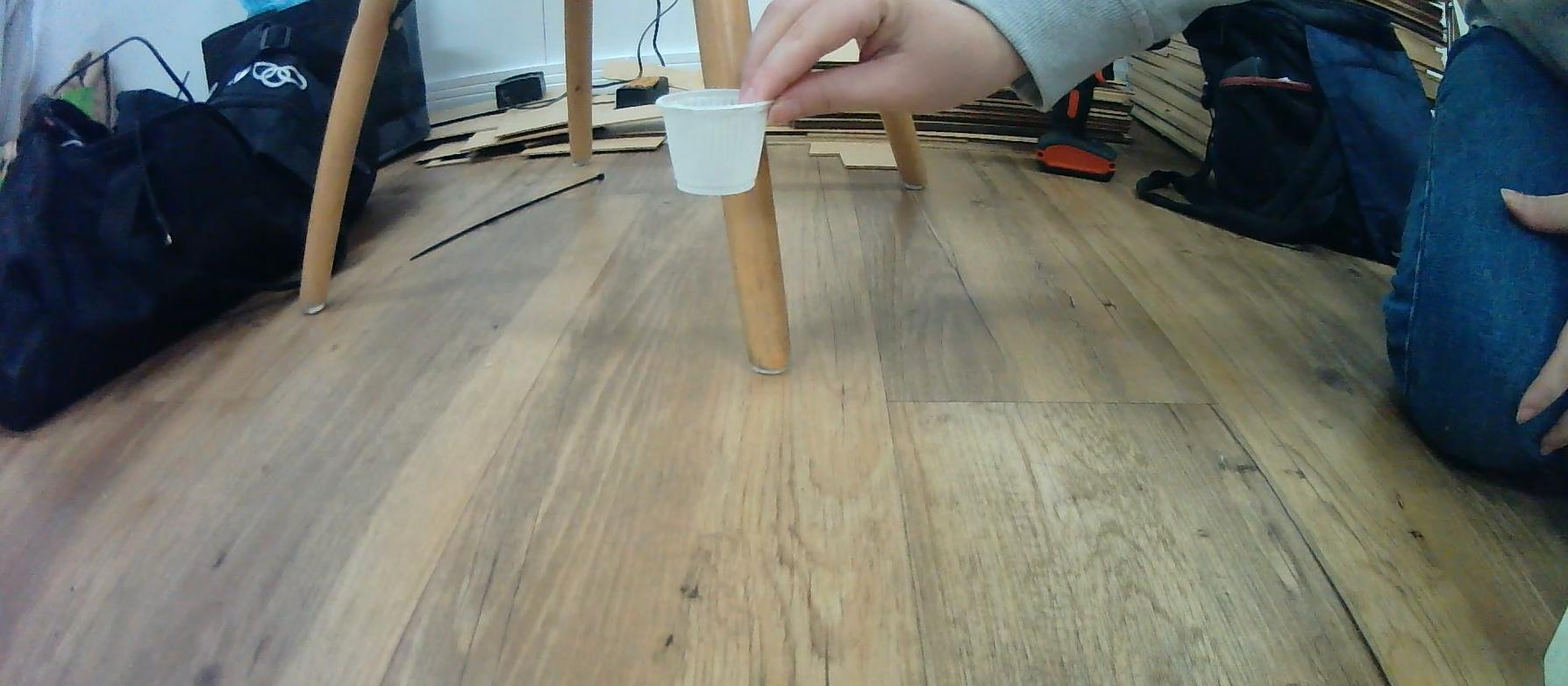planta: (655, 89, 776, 196)
